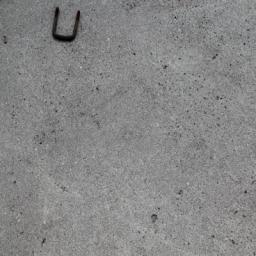FOD: (51, 4, 85, 47)
